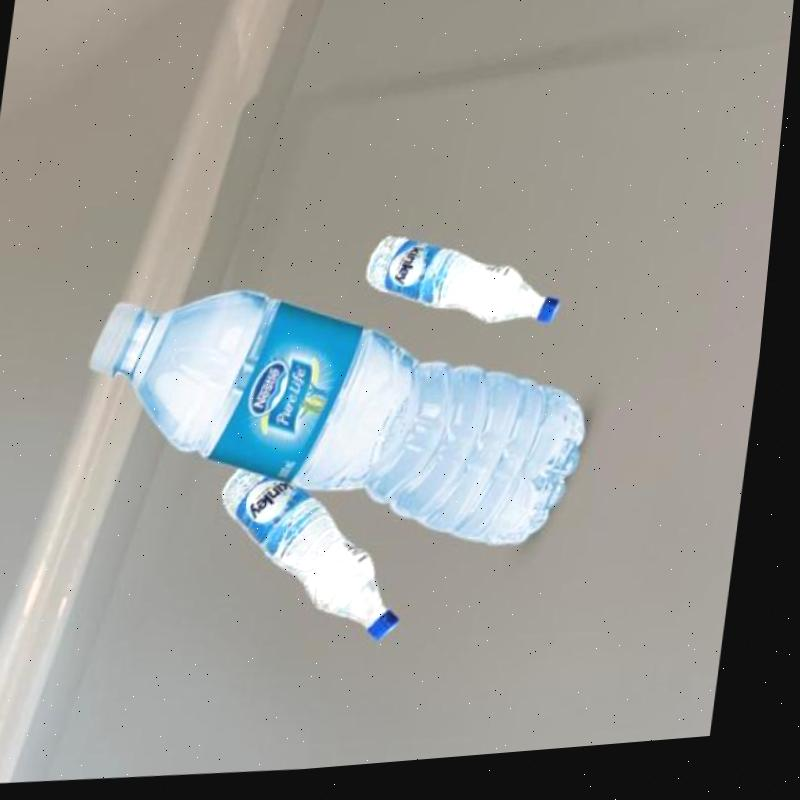botella: (69, 265, 612, 586), (211, 462, 426, 658), (362, 228, 573, 346)
